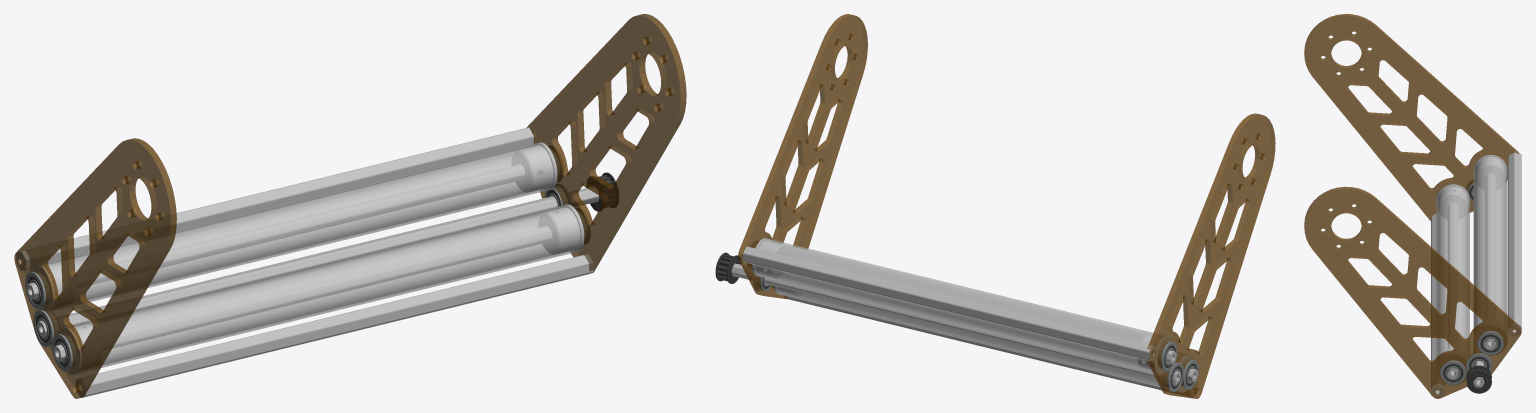
3 views of the same model, side by side, from view 1: azimuth 30°, elevation 25°; view 2: azimuth 150°, elevation 25°; view 3: azimuth 270°, elevation 25° (orthographic). The views are drawn at different scales.
Visible parts, largest first — view 1: hood Roller Polycarb Tube:1 (×2), Shooter Hood:2, Shooter Hood:1, pivot standoff:2, pivot standoff:1, Hood Middle Hex:1, Hood Roller Hex:1, Hood Roller Hex:2, Live Axle Tube Roller 3_8:2 (×2), Live Axle Tube Roller 3_8:1 (×2), am-4960 14 Tooth 5mm HTD 0375 Hex Pulley (9mm wid:1, am-4489 FR6 2RS-Hex HD Bearing:5 (+2 smaller); view 2: Shooter Hood:2, hood Roller Polycarb Tube:1 (×2), Shooter Hood:1, pivot standoff:1, Hood Middle Hex:1, pivot standoff:2, Live Axle Tube Roller 3_8:2, am-4960 14 Tooth 5mm HTD 0375 Hex Pulley (9mm wid:1; view 3: Shooter Hood:1, Shooter Hood:2, hood Roller Polycarb Tube:1 (×2), pivot standoff:1, Live Axle Tube Roller 3_8:1 (×2), Hood Roller Hex:2, pivot standoff:2, Hood Roller Hex:1, am-4960 14 Tooth 5mm HTD 0375 Hex Pulley (9mm wid:1, Live Axle Tube Roller 3_8:2 (×2), am-4489 FR6 2RS-Hex HD Bearing:1, am-4489 FR6 2RS-Hex HD Bearing:3 (+2 smaller).
Boxes of the visible parts, left/top/right/bottom form: hood Roller Polycarb Tube:1 (×2): left=48, top=143, right=581, bottom=367; Shooter Hood:2: left=14, top=138, right=176, bottom=398; Shooter Hood:1: left=526, top=14, right=686, bottom=272; pivot standoff:2: left=76, top=254, right=593, bottom=397; pivot standoff:1: left=16, top=127, right=533, bottom=270; Hood Middle Hex:1: left=37, top=186, right=599, bottom=336; Hood Roller Hex:1: left=53, top=226, right=552, bottom=361; Hood Roller Hex:2: left=26, top=164, right=524, bottom=299; Live Axle Tube Roller 3_8:2 (×2): left=511, top=142, right=584, bottom=254; Live Axle Tube Roller 3_8:1 (×2): left=30, top=262, right=92, bottom=374; am-4960 14 Tooth 5mm HTD 0375 Hex Pulley (9mm wid:1: left=586, top=172, right=618, bottom=211; am-4489 FR6 2RS-Hex HD Bearing:5: left=33, top=310, right=59, bottom=347; Shooter Hood:2: left=1147, top=113, right=1275, bottom=398; hood Roller Polycarb Tube:1 (×2): left=754, top=238, right=1159, bottom=387; Shooter Hood:1: left=738, top=14, right=867, bottom=299; pivot standoff:1: left=743, top=246, right=1156, bottom=361; Hood Middle Hex:1: left=731, top=263, right=1181, bottom=384; pivot standoff:2: left=784, top=294, right=1197, bottom=397; Live Axle Tube Roller 3_8:2: left=752, top=238, right=788, bottom=278; am-4960 14 Tooth 5mm HTD 0375 Hex Pulley (9mm wid:1: left=715, top=252, right=741, bottom=283; Shooter Hood:1: left=1304, top=186, right=1521, bottom=398; Shooter Hood:2: left=1304, top=14, right=1518, bottom=221; hood Roller Polycarb Tube:1 (×2): left=1436, top=155, right=1507, bottom=357; pivot standoff:1: left=1508, top=151, right=1521, bottom=336; Live Axle Tube Roller 3_8:1 (×2): left=1436, top=154, right=1507, bottom=218; Hood Roller Hex:2: left=1485, top=173, right=1496, bottom=348; pivot standoff:2: left=1431, top=213, right=1444, bottom=398; Hood Roller Hex:1: left=1447, top=203, right=1458, bottom=377; am-4960 14 Tooth 5mm HTD 0375 Hex Pulley (9mm wid:1: left=1466, top=365, right=1491, bottom=393; Live Axle Tube Roller 3_8:2 (×2): left=1437, top=322, right=1506, bottom=383; am-4489 FR6 2RS-Hex HD Bearing:1: left=1477, top=330, right=1503, bottom=355; am-4489 FR6 2RS-Hex HD Bearing:3: left=1440, top=359, right=1466, bottom=384.
Size of the model in its own units: 0.4312 by 0.2183 by 0.2041.
